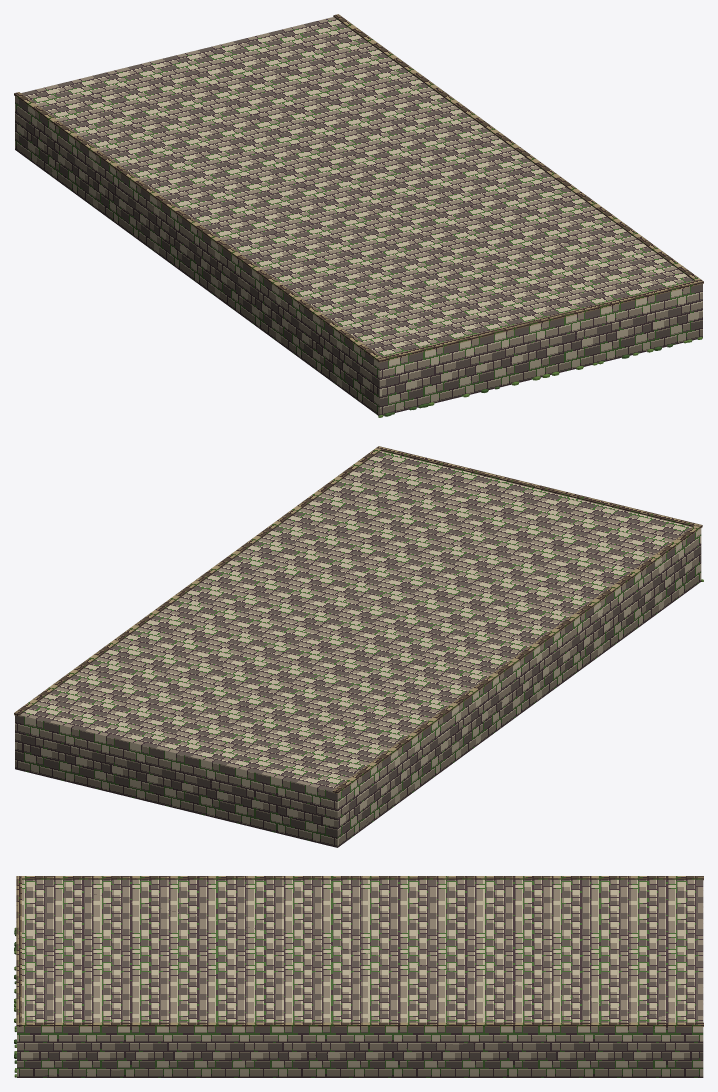
File: scene_wall_e.glb
3 renders of one model, top to bottom at view 1: azimuth 30°, elevation 25°; view 2: azimuth 150°, elevation 25°; view 3: azimuth 270°, elevation 25°, orthographic. The views are drawn at different scales.
Parts seen in each view (by area): view 1: scene_wall_e; view 2: scene_wall_e; view 3: scene_wall_e.
Boxes of the visible parts, x1,y1,x2,y2 form: scene_wall_e: [14, 14, 703, 417]; scene_wall_e: [14, 446, 703, 847]; scene_wall_e: [14, 876, 703, 1077].
Bounding box in the file's own units: 22.19 × 3.77 × 43.24.
2 materials, 1 textured.
